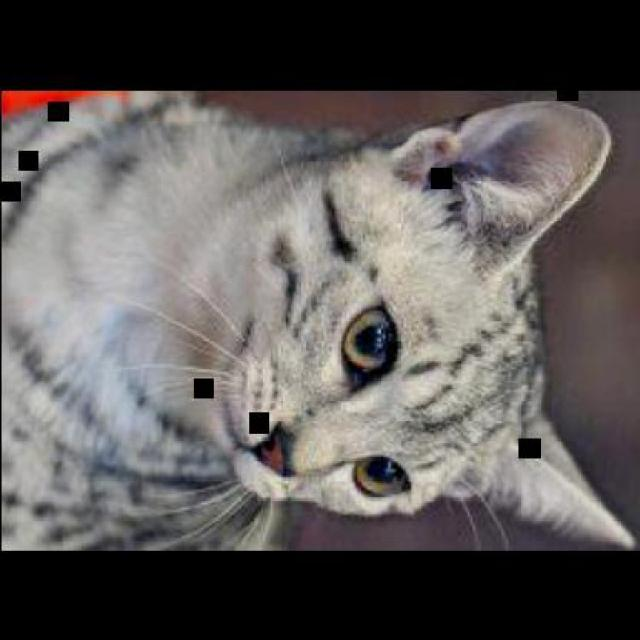unauthorized: (0, 91, 638, 551)
